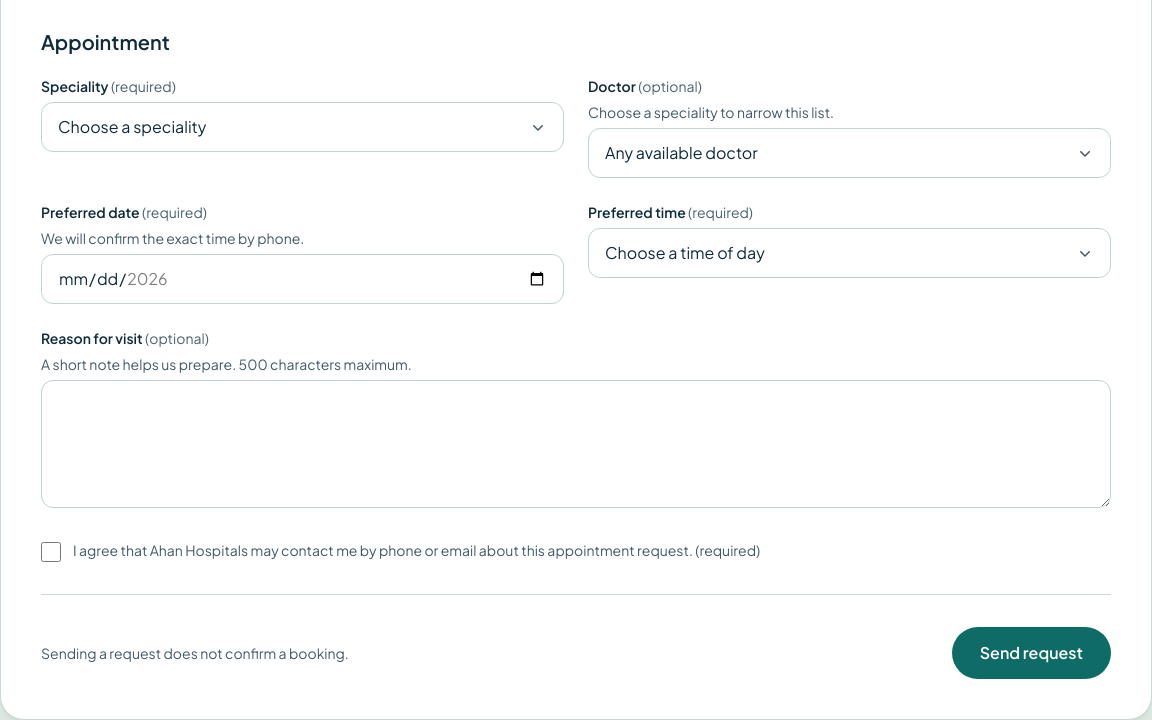
Scenario: AppointmentForm › shows validation errors linked to their fields and does not submit
The width and height of the screenshot is (1152, 720).
(page scrolled)
Click the button "Send request": (1031, 653) [952,627,1111,679]
(page scrolled)
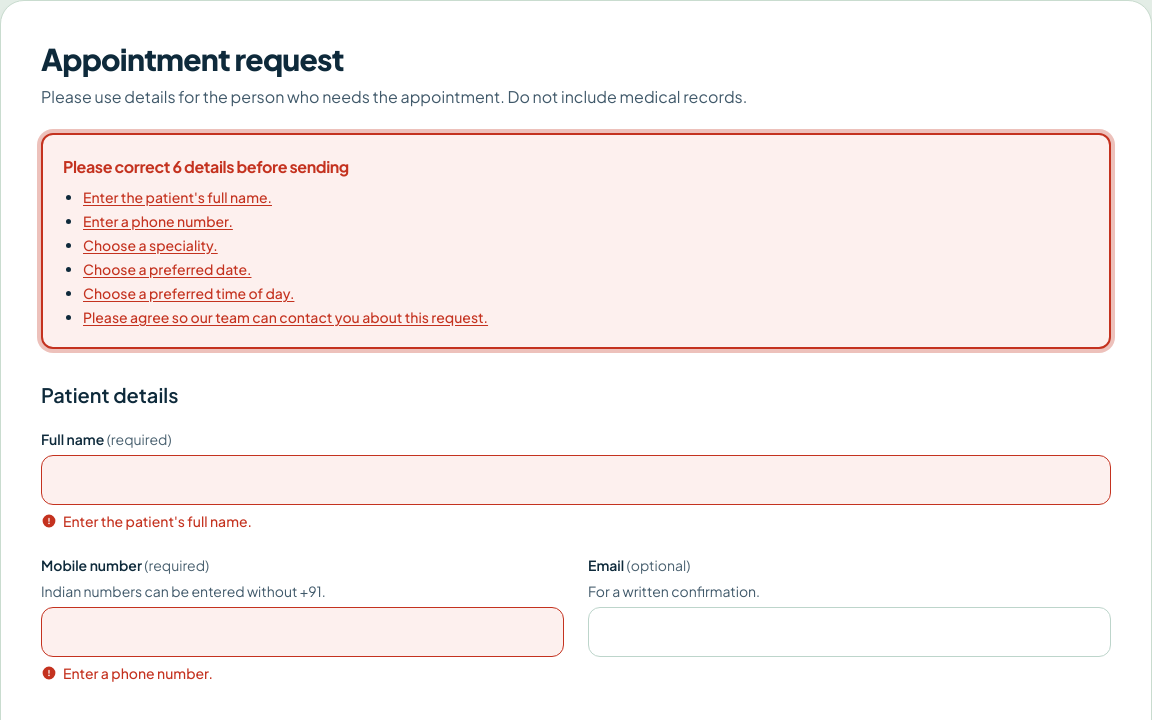
Expected: the heading "Please correct 6 details before sending" is shown, [63,156,349,177]
